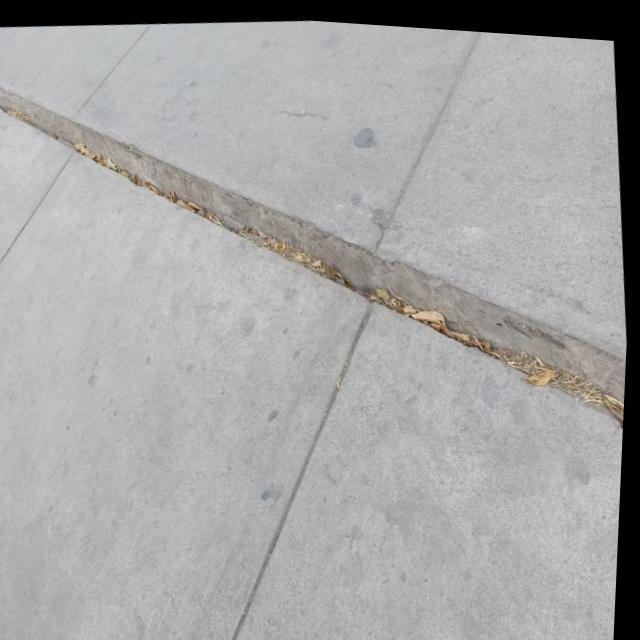bump: (6, 78, 609, 386), (329, 230, 620, 418)
